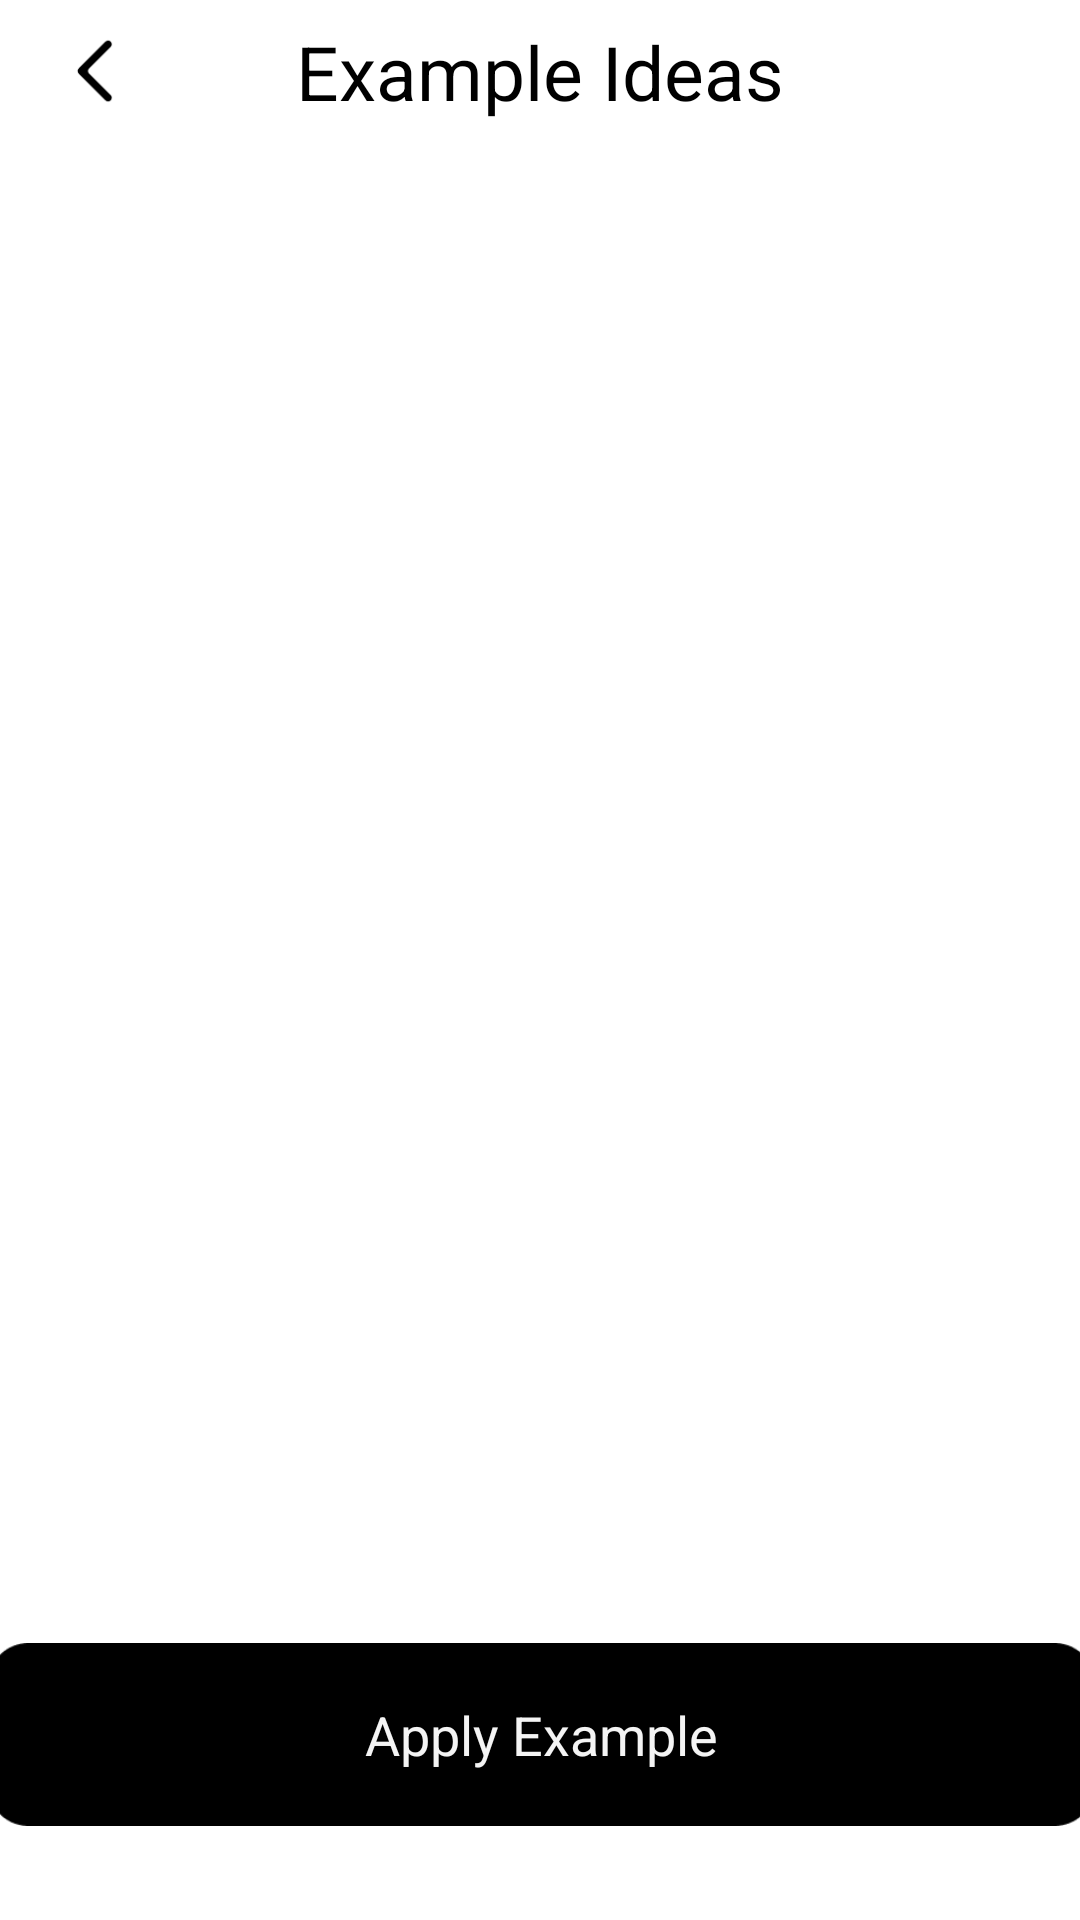

Where to tap for icons on this 1080w x 1920h app screen, as (x=x, y=y):
back: (x=94, y=71)
